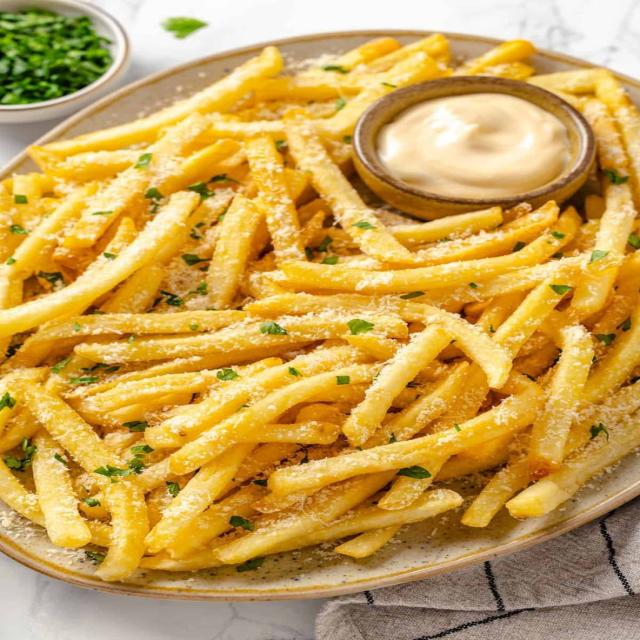potato fries: (0, 35, 639, 580)
